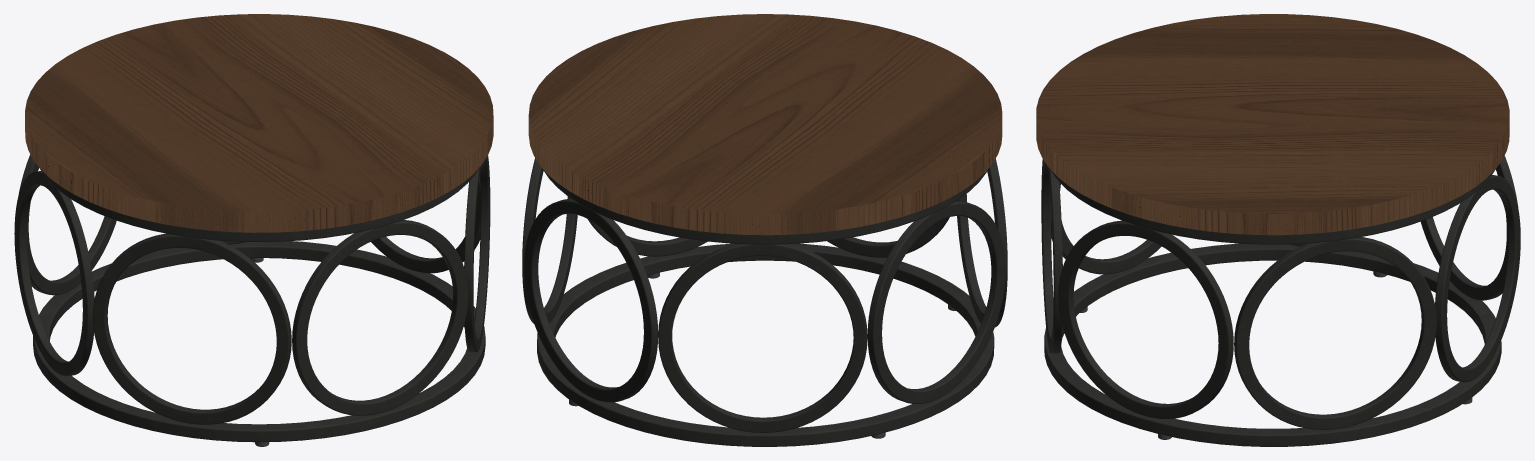
Rendered from Coffee_Table.glb.
The picture shows the model from 3 angles, left to right: view 1: azimuth 30°, elevation 25°; view 2: azimuth 150°, elevation 25°; view 3: azimuth 270°, elevation 25°; orthographic projection.
Parts seen in each view (by area): view 1: table_wood; view 2: table_wood; view 3: table_wood.
Part boxes in pixels (bbox=[...]): table_wood: bbox=[14, 14, 493, 446]; table_wood: bbox=[522, 14, 1007, 446]; table_wood: bbox=[1036, 14, 1520, 446].
Bounding box in the file's own units: 0.8358 × 0.4601 × 0.8355.
4 materials, 2 textured.
